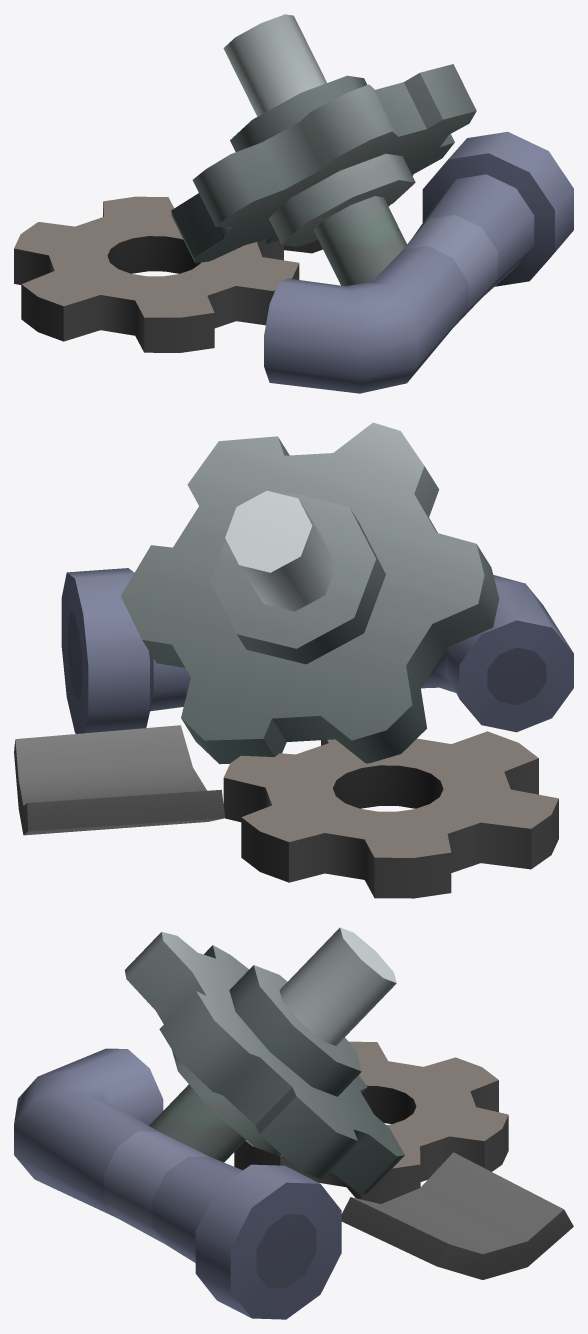
File: factory-scrap.obj
3 views of the same model, one above another, from view 1: azimuth 30°, elevation 25°; view 2: azimuth 150°, elevation 25°; view 3: azimuth 270°, elevation 25° (orthographic). The views are drawn at different scales.
Parts seen in each view (by area): view 1: factory-scrap; view 2: factory-scrap; view 3: factory-scrap.
Part boxes in pixels (left/top/right/bottom): factory-scrap: left=14, top=14, right=573, bottom=393; factory-scrap: left=14, top=422, right=573, bottom=898; factory-scrap: left=14, top=927, right=573, bottom=1319.
Size of the model in its own units: 3.71 by 2.05 by 3.67.
1 material, 1 textured.
